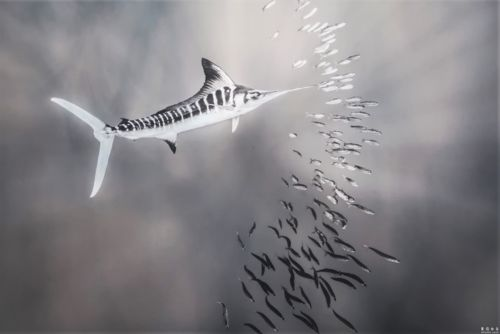shark: (46, 55, 323, 204)
